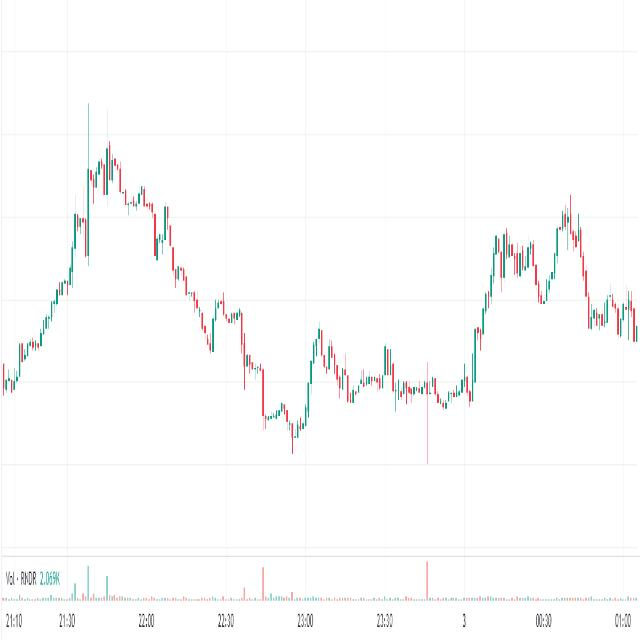Channel-down: (78, 98, 305, 476)
rectangle: (487, 220, 539, 293)
